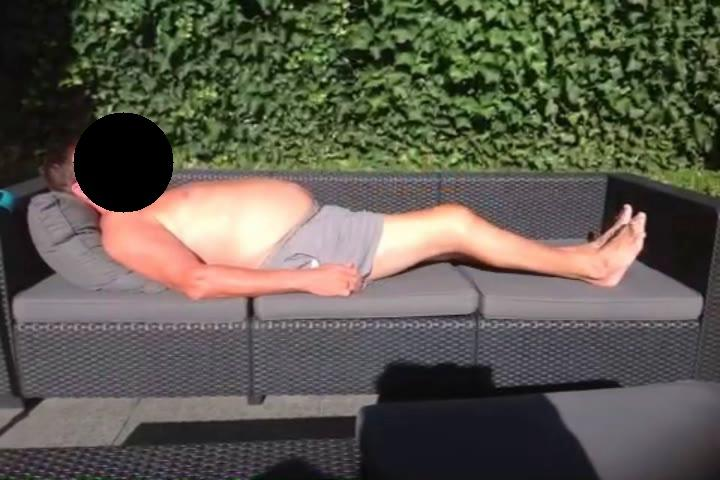lower_body: (289, 199, 649, 291)
